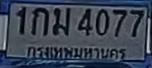0: (95, 8, 108, 35)
1: (16, 6, 26, 34)
4: (77, 7, 91, 35)
7: (112, 9, 126, 36), (130, 9, 142, 36)
A01: (31, 7, 48, 35)
A33: (52, 7, 70, 35)
BKK: (26, 42, 128, 61)
